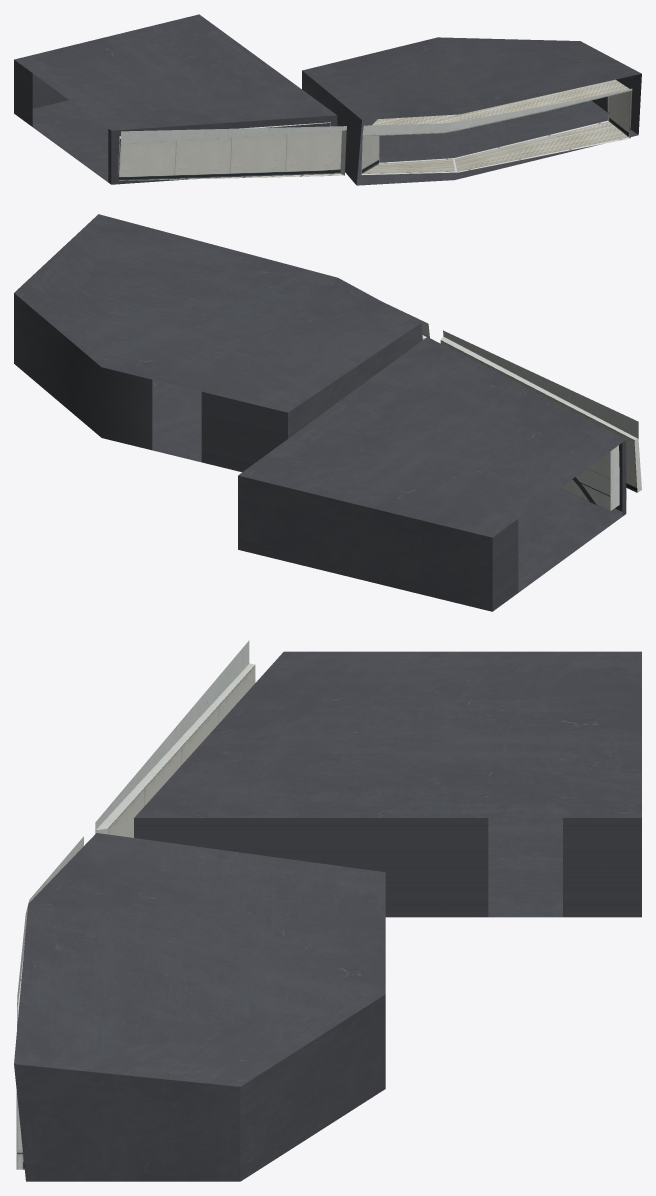
The model's file is STA20_officelinked.FBX.
3 views of the same model, one above another, from view 1: azimuth 30°, elevation 25°; view 2: azimuth 150°, elevation 25°; view 3: azimuth 270°, elevation 25° (orthographic). The views are drawn at different scales.
Parts seen in each view (by area): view 1: STA20_officelinked; view 2: STA20_officelinked; view 3: STA20_officelinked.
Part boxes in pixels (x1,y1,x2,y2): STA20_officelinked: [14, 14, 641, 185]; STA20_officelinked: [14, 214, 641, 611]; STA20_officelinked: [14, 640, 641, 1181].
Size of the model in its own units: 45.69 by 6.75 by 29.38.
